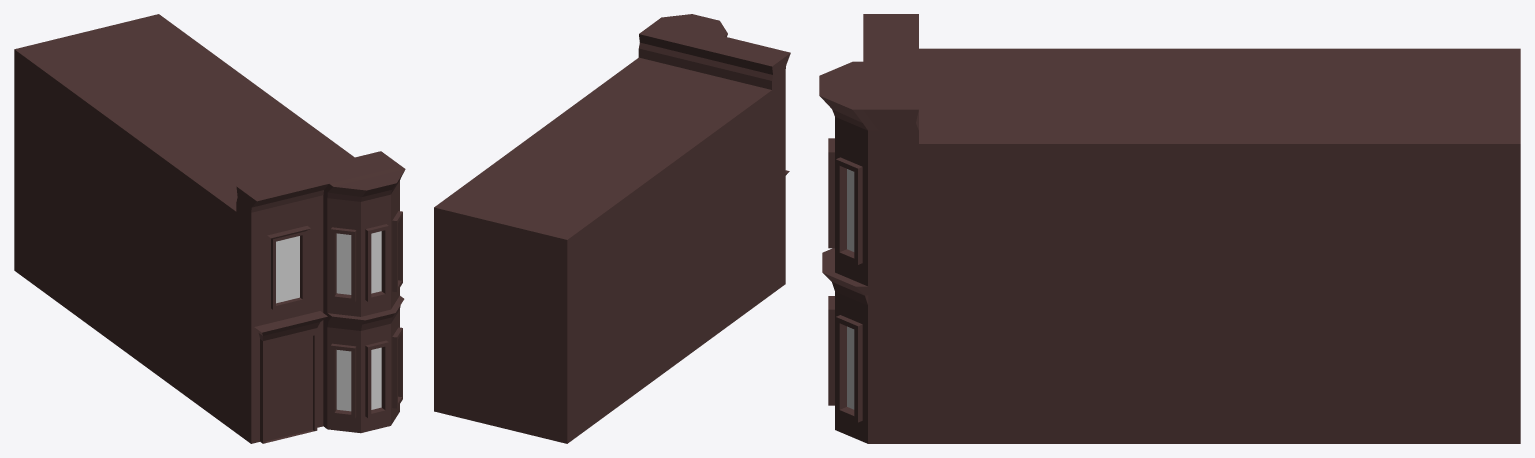
The model's file is SF_house_red.fbx.
3 renders of one model, left to right at view 1: azimuth 30°, elevation 25°; view 2: azimuth 150°, elevation 25°; view 3: azimuth 270°, elevation 25°, orthographic. The views are drawn at different scales.
Visible parts, largest first — view 1: Cube.005; view 2: Cube.005; view 3: Cube.005.
Part boxes in pixels (<box>): Cube.005: <box>14,14,405,443</box>; Cube.005: <box>434,14,790,443</box>; Cube.005: <box>819,14,1520,443</box>.
Bounding box in the file's own units: 297 × 484 × 920.
